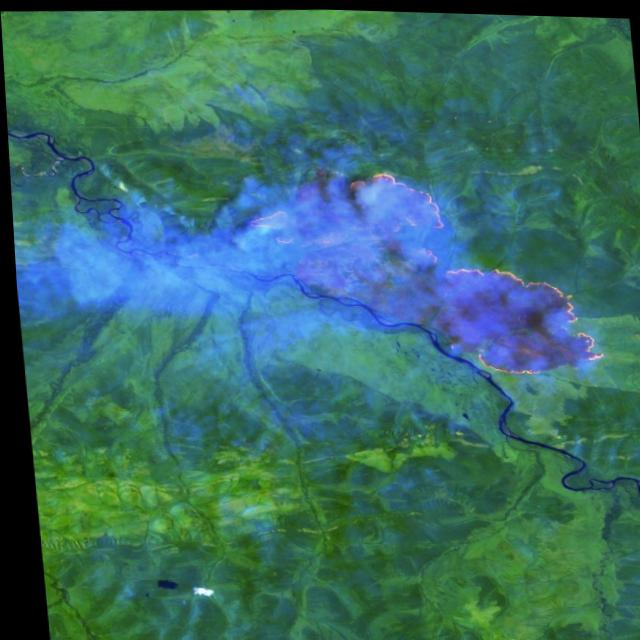fire: (340, 159, 610, 392)
